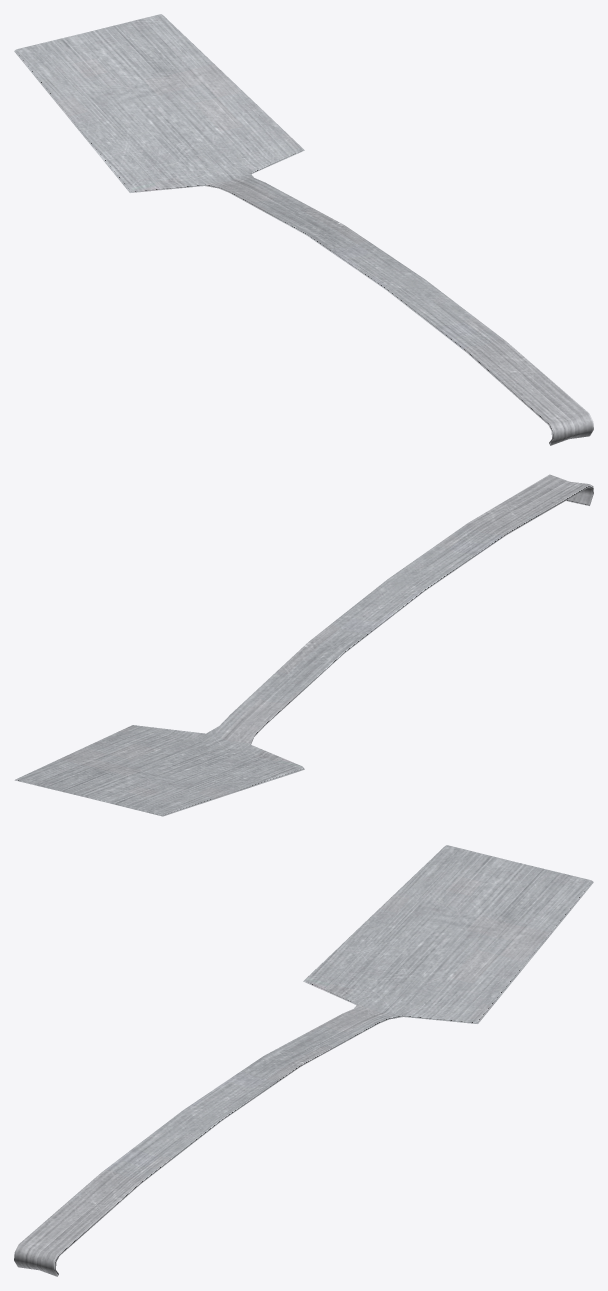
The model's file is SM_KitchenwareB.FBX.
The picture shows the model from 3 angles, top to bottom: view 1: azimuth 30°, elevation 25°; view 2: azimuth 150°, elevation 25°; view 3: azimuth 330°, elevation 25°; orthographic projection.
Visible parts, largest first — view 1: SM_KitchenwareB; view 2: SM_KitchenwareB; view 3: SM_KitchenwareB.
Part boxes in pixels (x1,y1,x2,y2): SM_KitchenwareB: (14,14,593,445); SM_KitchenwareB: (14,474,593,816); SM_KitchenwareB: (14,845,593,1276).
Bounding box in the file's own units: 6.65 × 2.07 × 31.96.
